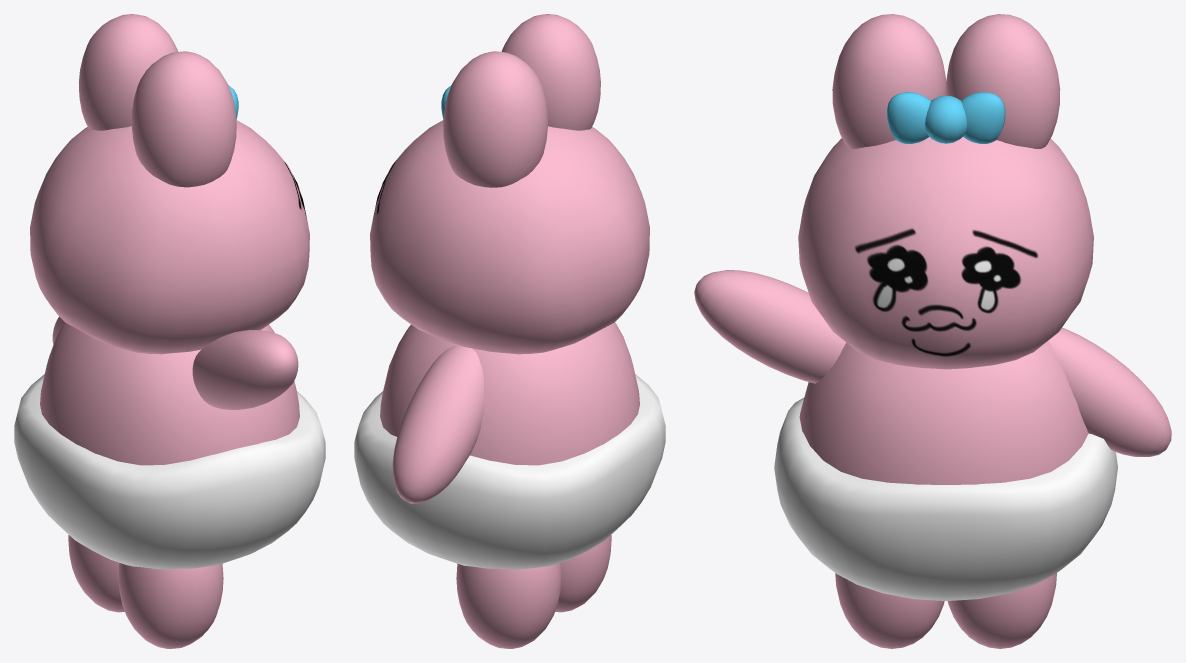
Rendered from opanchu3.gltf.
The picture shows the model from 3 angles, left to right: view 1: azimuth 30°, elevation 25°; view 2: azimuth 150°, elevation 25°; view 3: azimuth 270°, elevation 25°; orthographic projection. The views are drawn at different scales.
Visible parts, largest first — view 1: Cube.004, Cube.006, Cube.005, Cube.002, Cube.003, Cube.008, Cube.009, Cube.010; view 2: Cube.004, Cube.006, Cube.005, Cube.003, Cube.011, Cube.002, Cube.010, Cube.008; view 3: Cube.004, Cube.006, Cube.005, Cube.009, Cube.003, Cube.002, Cube.011, Cube.008, Cube.010, Sphere.001, Sphere.002, Sphere.
Part boxes in pixels (x1=…): Cube.004: x1=30, y1=120, x2=309, y2=354; Cube.006: x1=14, y1=374, x2=325, y2=569; Cube.005: x1=40, y1=322, x2=299, y2=465; Cube.002: x1=131, y1=51, x2=236, y2=187; Cube.003: x1=78, y1=14, x2=178, y2=130; Cube.008: x1=118, y1=563, x2=223, y2=648; Cube.009: x1=192, y1=330, x2=298, y2=409; Cube.010: x1=68, y1=535, x2=124, y2=612; Cube.004: x1=370, y1=120, x2=649, y2=354; Cube.006: x1=354, y1=374, x2=665, y2=569; Cube.005: x1=380, y1=322, x2=639, y2=465; Cube.003: x1=443, y1=51, x2=548, y2=187; Cube.011: x1=392, y1=345, x2=484, y2=503; Cube.002: x1=501, y1=14, x2=600, y2=130; Cube.010: x1=456, y1=562, x2=561, y2=648; Cube.008: x1=555, y1=535, x2=611, y2=612; Cube.004: x1=798, y1=137, x2=1093, y2=369; Cube.006: x1=774, y1=398, x2=1117, y2=600; Cube.005: x1=799, y1=341, x2=1088, y2=484; Cube.009: x1=694, y1=270, x2=845, y2=383; Cube.003: x1=946, y1=14, x2=1060, y2=148; Cube.002: x1=832, y1=14, x2=946, y2=148; Cube.011: x1=1048, y1=327, x2=1171, y2=456; Cube.008: x1=835, y1=573, x2=944, y2=648; Cube.010: x1=947, y1=573, x2=1056, y2=648; Sphere.001: x1=961, y1=92, x2=1005, y2=143; Sphere.002: x1=887, y1=92, x2=930, y2=143; Sphere: x1=925, y1=95, x2=966, y2=143.
Size of the model in its own units: 24.77 by 56.26 by 38.41.
1 material, 1 textured.
